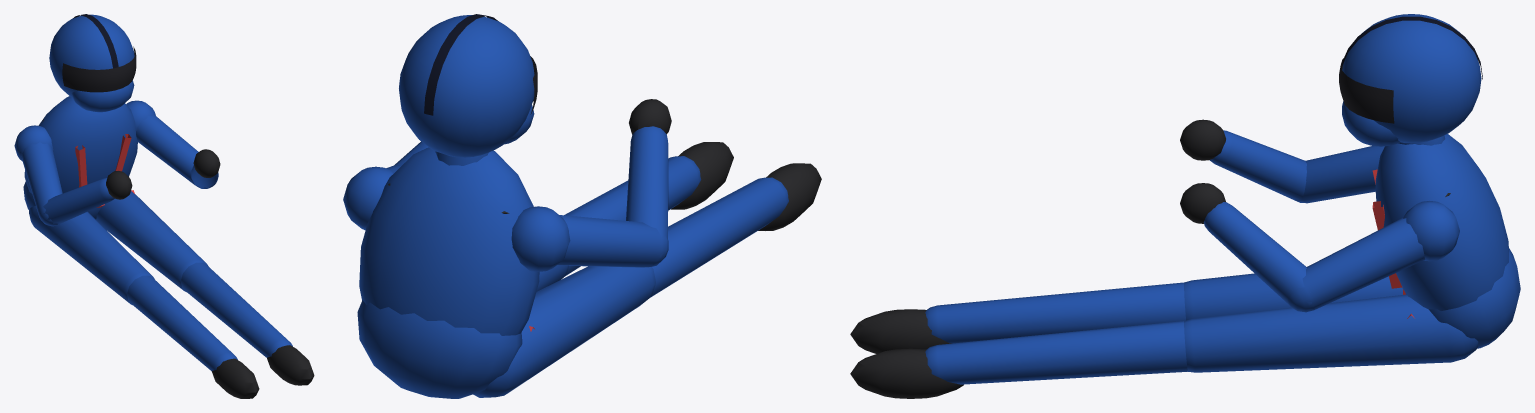
File: bugotti_chiffon_driver.glb
3 renders of one model, left to right at view 1: azimuth 30°, elevation 25°; view 2: azimuth 150°, elevation 25°; view 3: azimuth 270°, elevation 25°, orthographic. The views are drawn at different scales.
Visible parts, largest first — view 1: bugotti_chiffon_driver; view 2: bugotti_chiffon_driver; view 3: bugotti_chiffon_driver.
Boxes of the visible parts, box(x1,y1,x2,y2) form: bugotti_chiffon_driver: box(14, 14, 314, 398); bugotti_chiffon_driver: box(343, 14, 821, 398); bugotti_chiffon_driver: box(850, 14, 1520, 398).
Bounding box in the file's own units: 0.6419 × 0.847 × 1.43.
